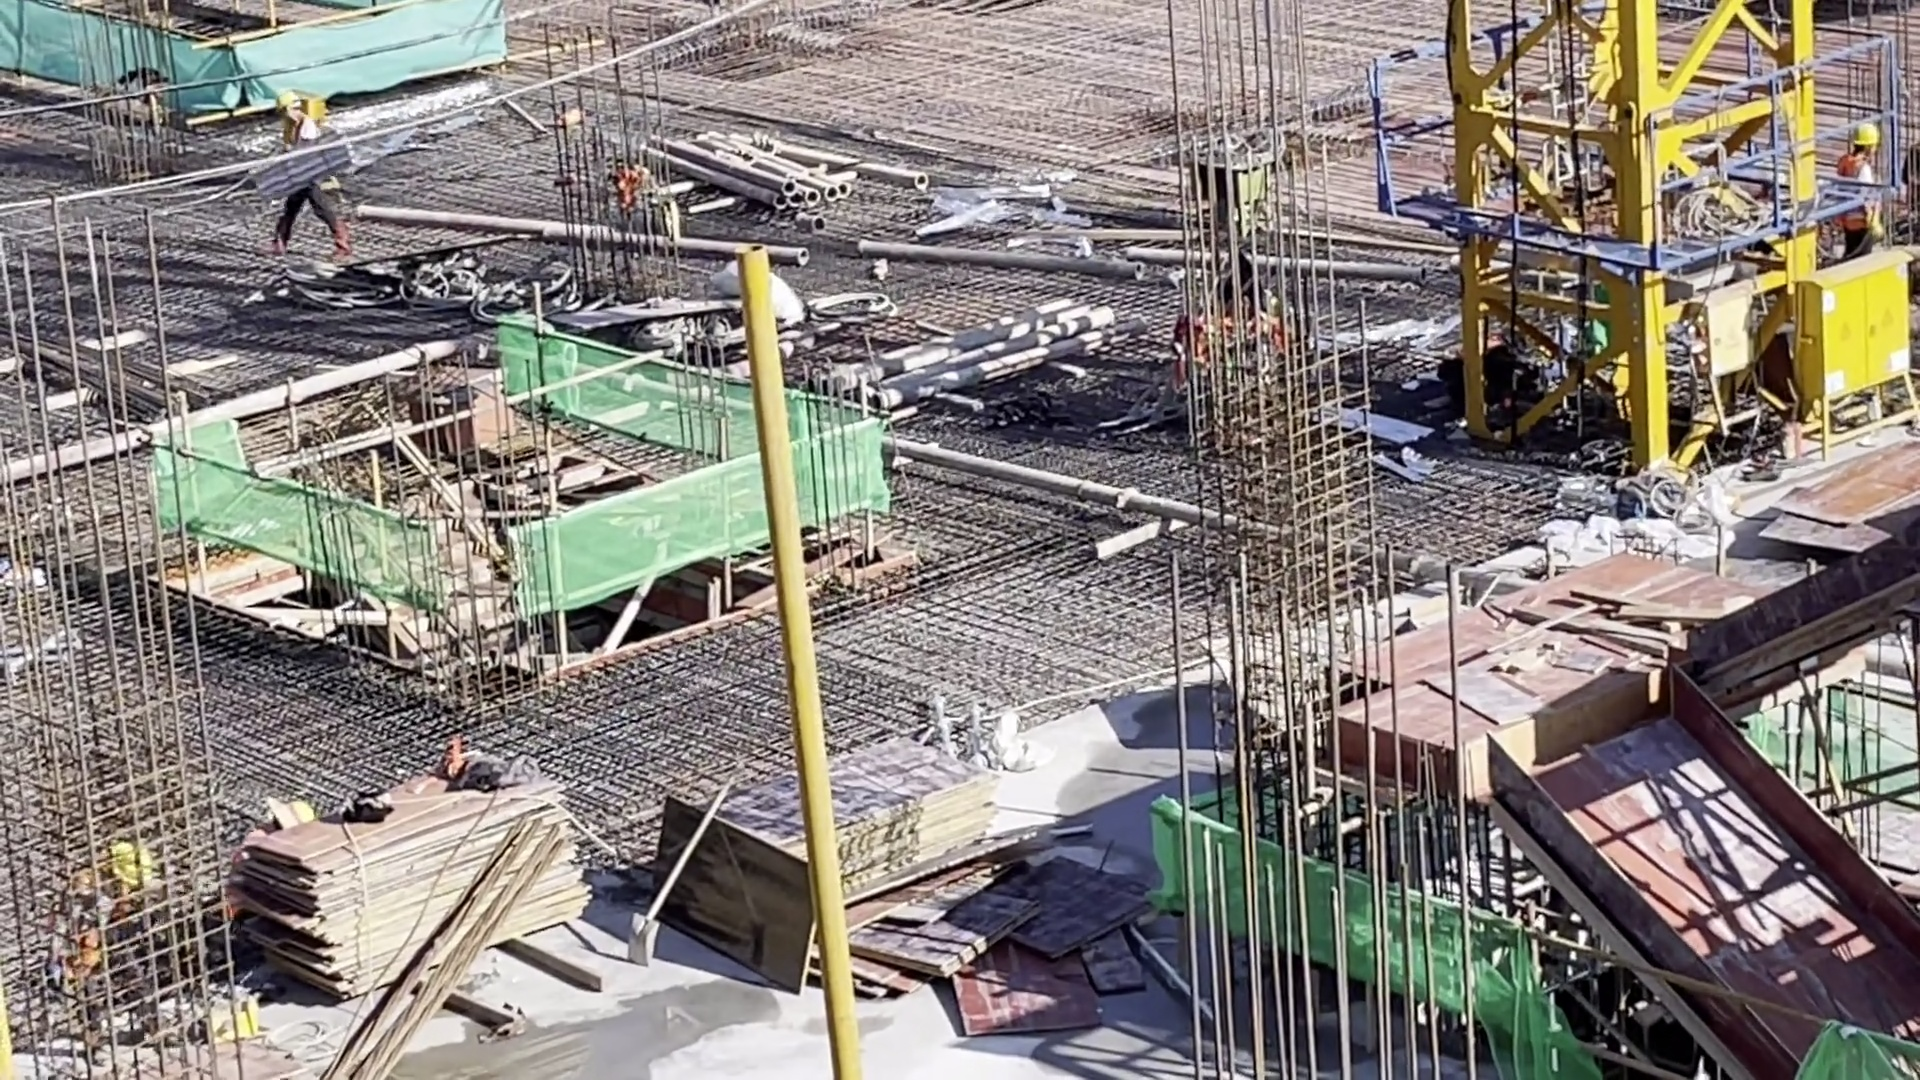board: (237, 734, 606, 1014), (722, 722, 1047, 1018)
ebox: (1795, 234, 1920, 378)
helmet: (118, 843, 161, 884), (1851, 116, 1879, 158), (270, 85, 297, 122)
person: (23, 829, 191, 1032), (260, 86, 371, 265), (1844, 120, 1879, 241)
scaffold: (663, 110, 951, 207)
vest: (1824, 152, 1881, 230)
